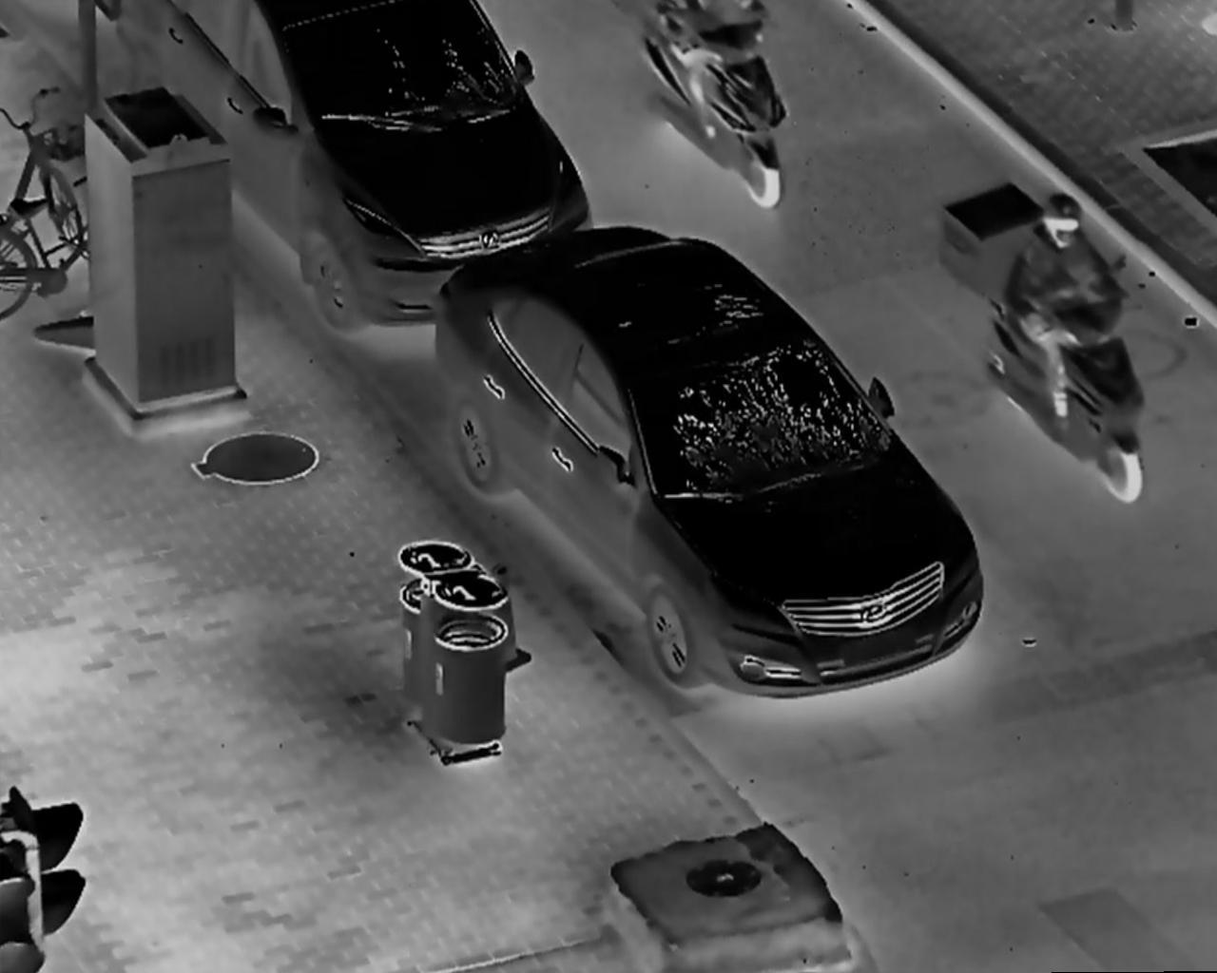person: (1009, 189, 1134, 438)
